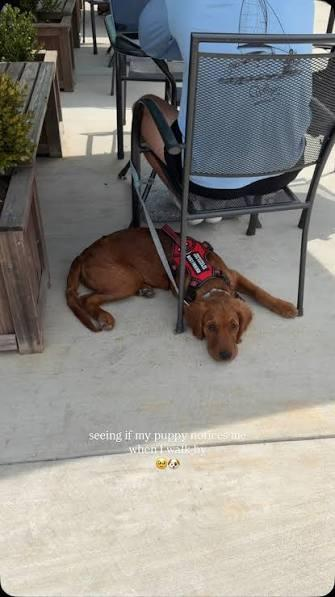adult_dog: (65, 226, 299, 362)
